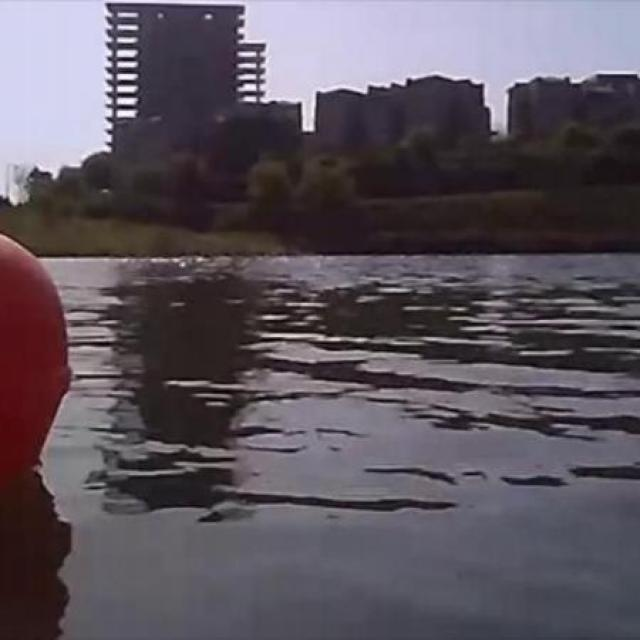buoy: (0, 228, 74, 489)
